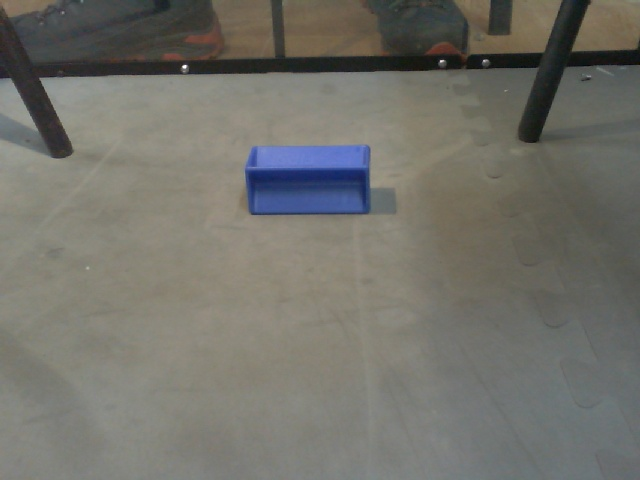BlueSample: (241, 138, 376, 217)
